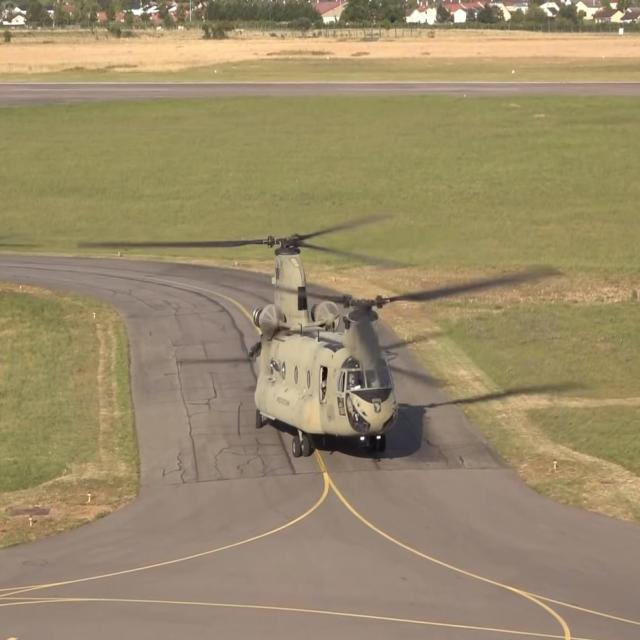Helicopter: (225, 218, 416, 476)
